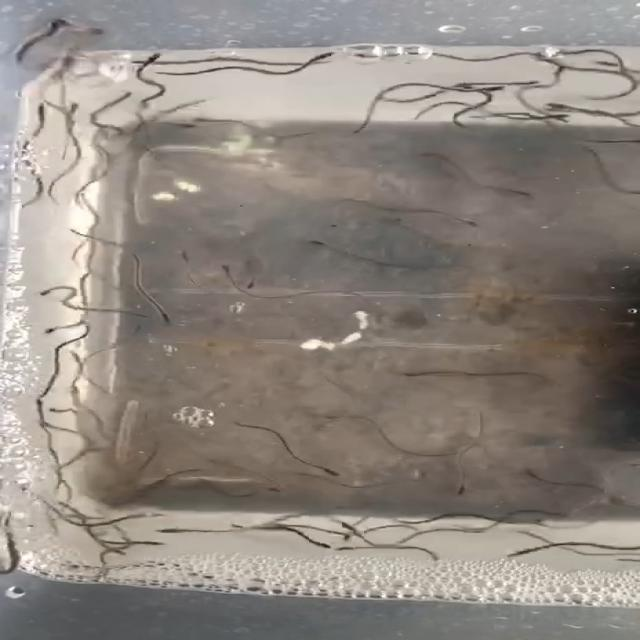inactive_glass_eel: (137, 525, 205, 550), (143, 305, 186, 341), (128, 44, 182, 72), (439, 212, 499, 235), (31, 14, 84, 38), (284, 460, 342, 481), (278, 234, 346, 251), (24, 319, 79, 340), (501, 190, 552, 212), (306, 45, 352, 69), (532, 92, 582, 114), (317, 541, 378, 559), (435, 80, 489, 100), (449, 485, 489, 505), (154, 115, 196, 134), (38, 402, 84, 418), (238, 278, 273, 298), (202, 260, 253, 273), (338, 513, 364, 537), (493, 544, 524, 564), (100, 86, 134, 104), (535, 111, 569, 129), (195, 114, 231, 131), (470, 81, 505, 98), (58, 97, 83, 118), (28, 287, 66, 300), (171, 245, 196, 264), (310, 536, 338, 552)
